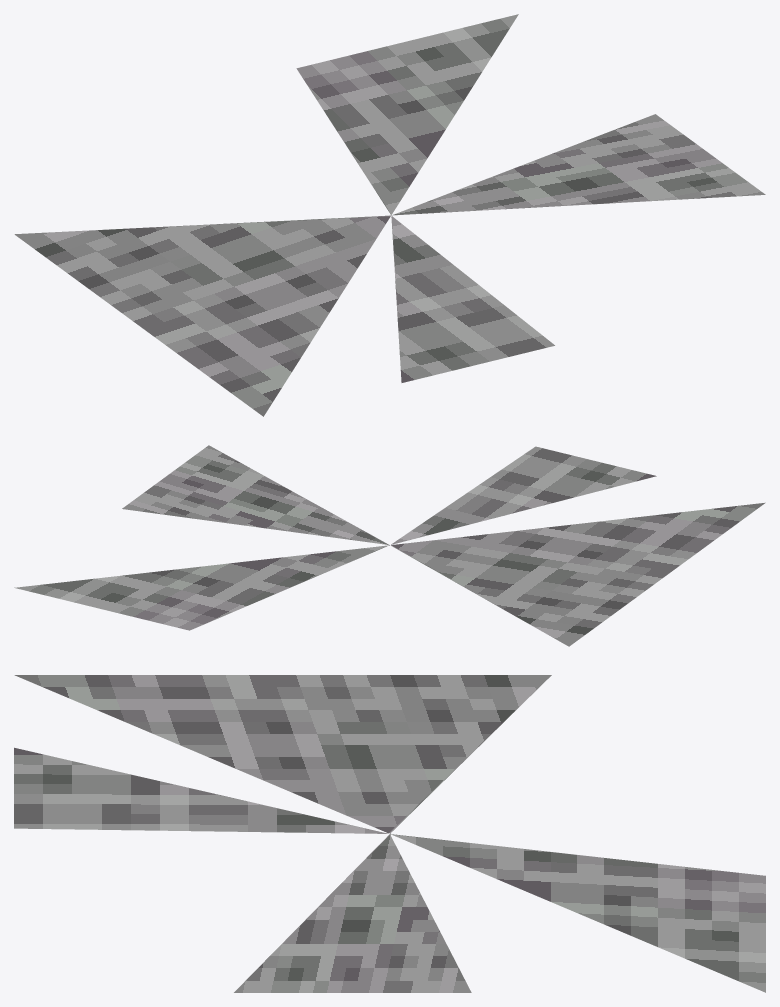
Rendered from SegmentPivot.fbx.
3 views of the same model, one above another, from view 1: azimuth 30°, elevation 25°; view 2: azimuth 150°, elevation 25°; view 3: azimuth 270°, elevation 25° (orthographic). The views are drawn at different scales.
Visible parts, largest first — view 1: SegmentPivot; view 2: SegmentPivot; view 3: SegmentPivot.
Boxes of the visible parts, box(x1,y1,x2,y2) form: SegmentPivot: box(14, 14, 765, 416); SegmentPivot: box(14, 445, 765, 646); SegmentPivot: box(14, 675, 765, 992).
Bounding box in the file's own units: 2000 × 0 × 2000.
Materials: 1 (1 with a texture image).
